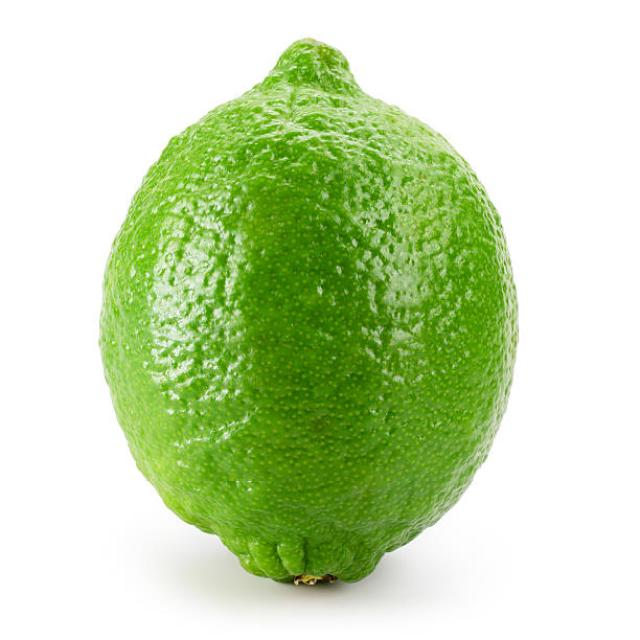Unripe: (96, 37, 520, 585)
